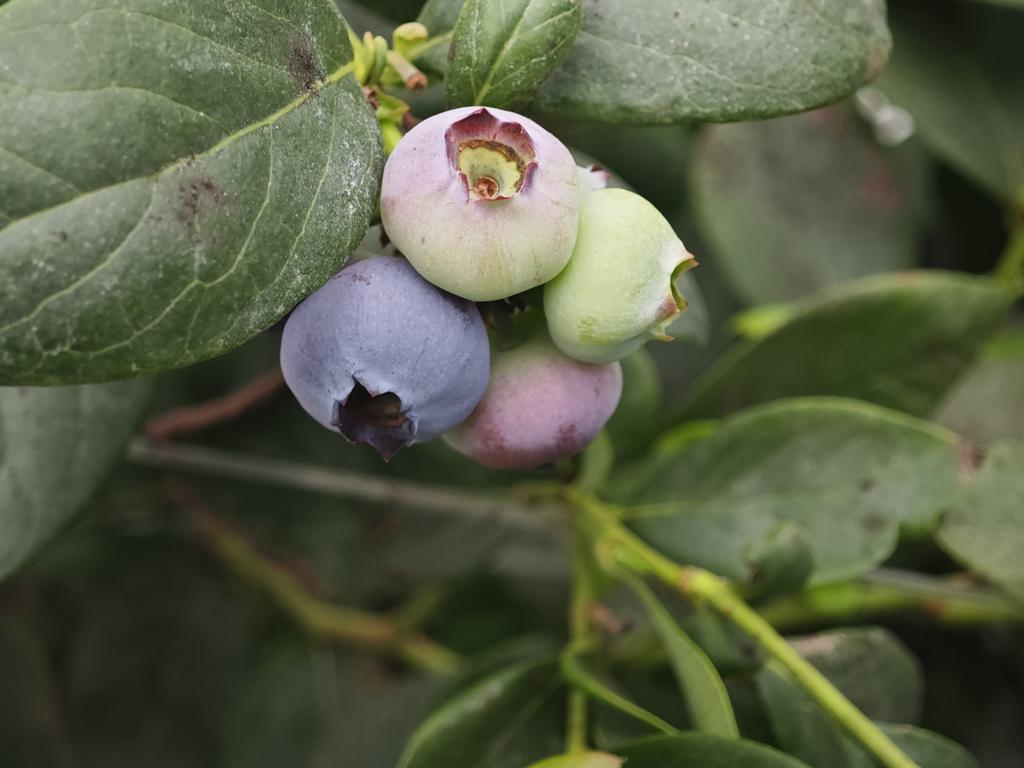RipeBlueBerry: (278, 267, 491, 466)
Semi-RipeBlueBerry: (382, 101, 584, 296), (438, 328, 672, 468)
UnripeBlueBerry: (547, 191, 720, 361)
